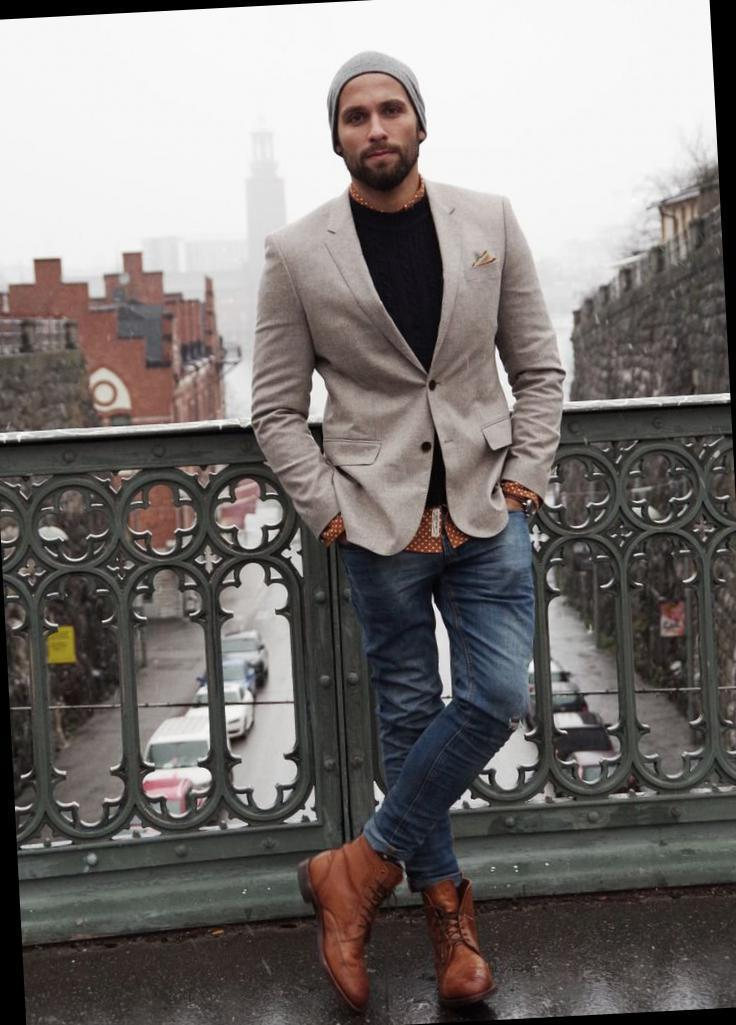Sober: (341, 74, 417, 170)
